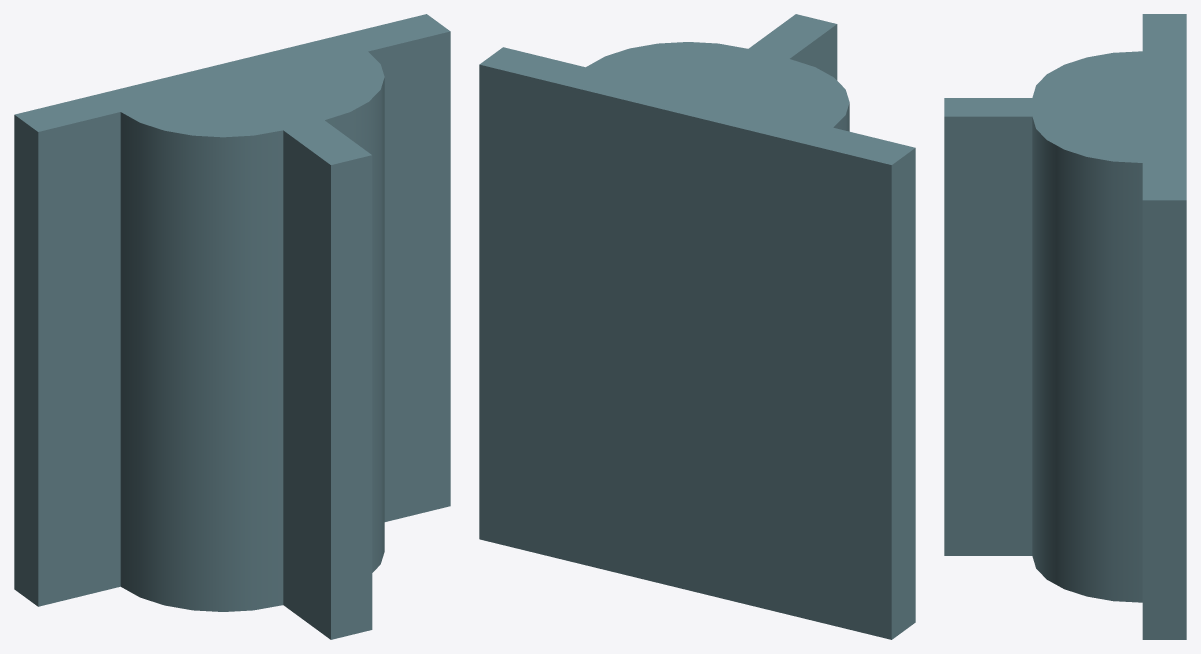
File: W1_WallCorner_Round2C.fbx
3 views of the same model, side by side, from view 1: azimuth 30°, elevation 25°; view 2: azimuth 150°, elevation 25°; view 3: azimuth 270°, elevation 25° (orthographic). The views are drawn at different scales.
Visible parts, largest first — view 1: W1_WallCorner_Round2C.001; view 2: W1_WallCorner_Round2C.001; view 3: W1_WallCorner_Round2C.001.
Boxes of the visible parts, x1,y1,x2,y2 form: W1_WallCorner_Round2C.001: (14, 14, 450, 639); W1_WallCorner_Round2C.001: (479, 14, 915, 639); W1_WallCorner_Round2C.001: (944, 14, 1186, 639).
Size of the model in its own units: 2 by 2.2 by 1.1.
